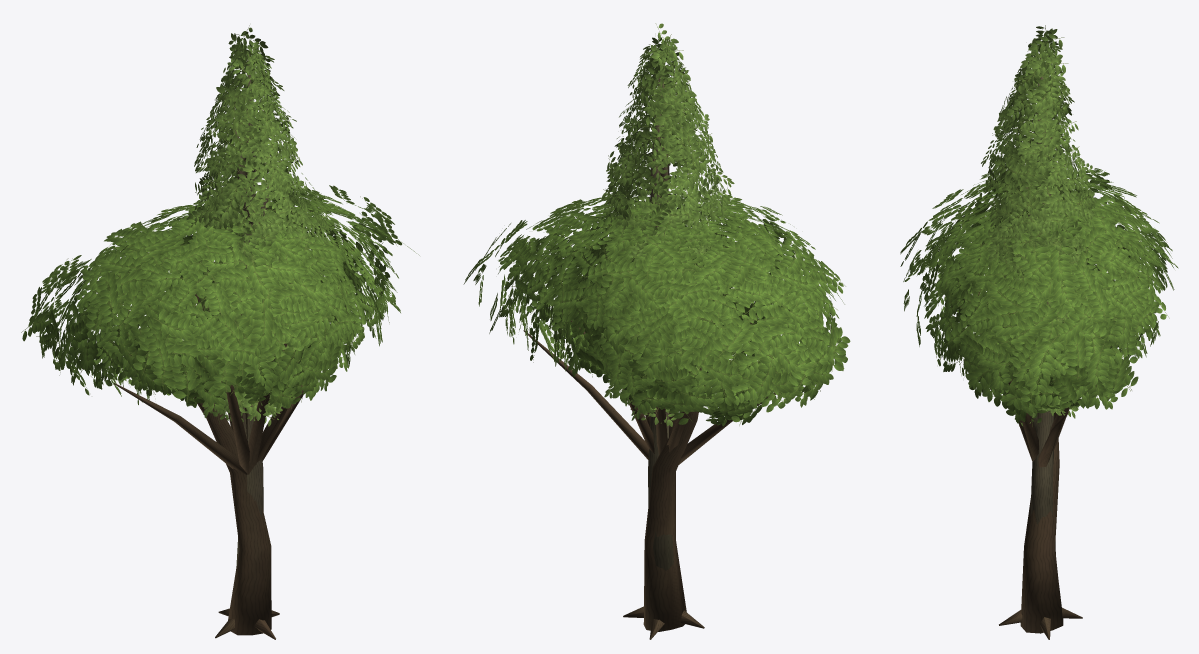
Rendered from r1_tree_kit.glb.
3 renders of one model, left to right at view 1: azimuth 30°, elevation 25°; view 2: azimuth 150°, elevation 25°; view 3: azimuth 270°, elevation 25°, orthographic.
Parts seen in each view (by area): view 1: r1_tree_elm_canopy, r1_tree_poplar_canopy, r1_tree_elm_wood, r1_tree_poplar_wood; view 2: r1_tree_elm_canopy, r1_tree_poplar_canopy, r1_tree_elm_wood, r1_tree_poplar_wood; view 3: r1_tree_elm_canopy, r1_tree_poplar_canopy, r1_tree_elm_wood, r1_tree_poplar_wood.
Part boxes in pixels (left/top/right/bottom): r1_tree_elm_canopy: left=21, top=180, right=419, bottom=412; r1_tree_poplar_canopy: left=186, top=25, right=333, bottom=426; r1_tree_elm_wood: left=114, top=294, right=343, bottom=639; r1_tree_poplar_wood: left=235, top=54, right=269, bottom=567; r1_tree_elm_canopy: left=463, top=194, right=850, bottom=426; r1_tree_poplar_canopy: left=576, top=23, right=734, bottom=426; r1_tree_elm_wood: left=523, top=315, right=775, bottom=639; r1_tree_poplar_wood: left=648, top=57, right=673, bottom=570; r1_tree_elm_canopy: left=900, top=168, right=1178, bottom=423; r1_tree_poplar_canopy: left=979, top=25, right=1106, bottom=426; r1_tree_elm_wood: left=959, top=280, right=1112, bottom=639; r1_tree_poplar_wood: left=1026, top=58, right=1055, bottom=553.
Size of the model in its own units: 6.73 by 10.26 by 4.45.
Materials: 2 (2 with a texture image).
